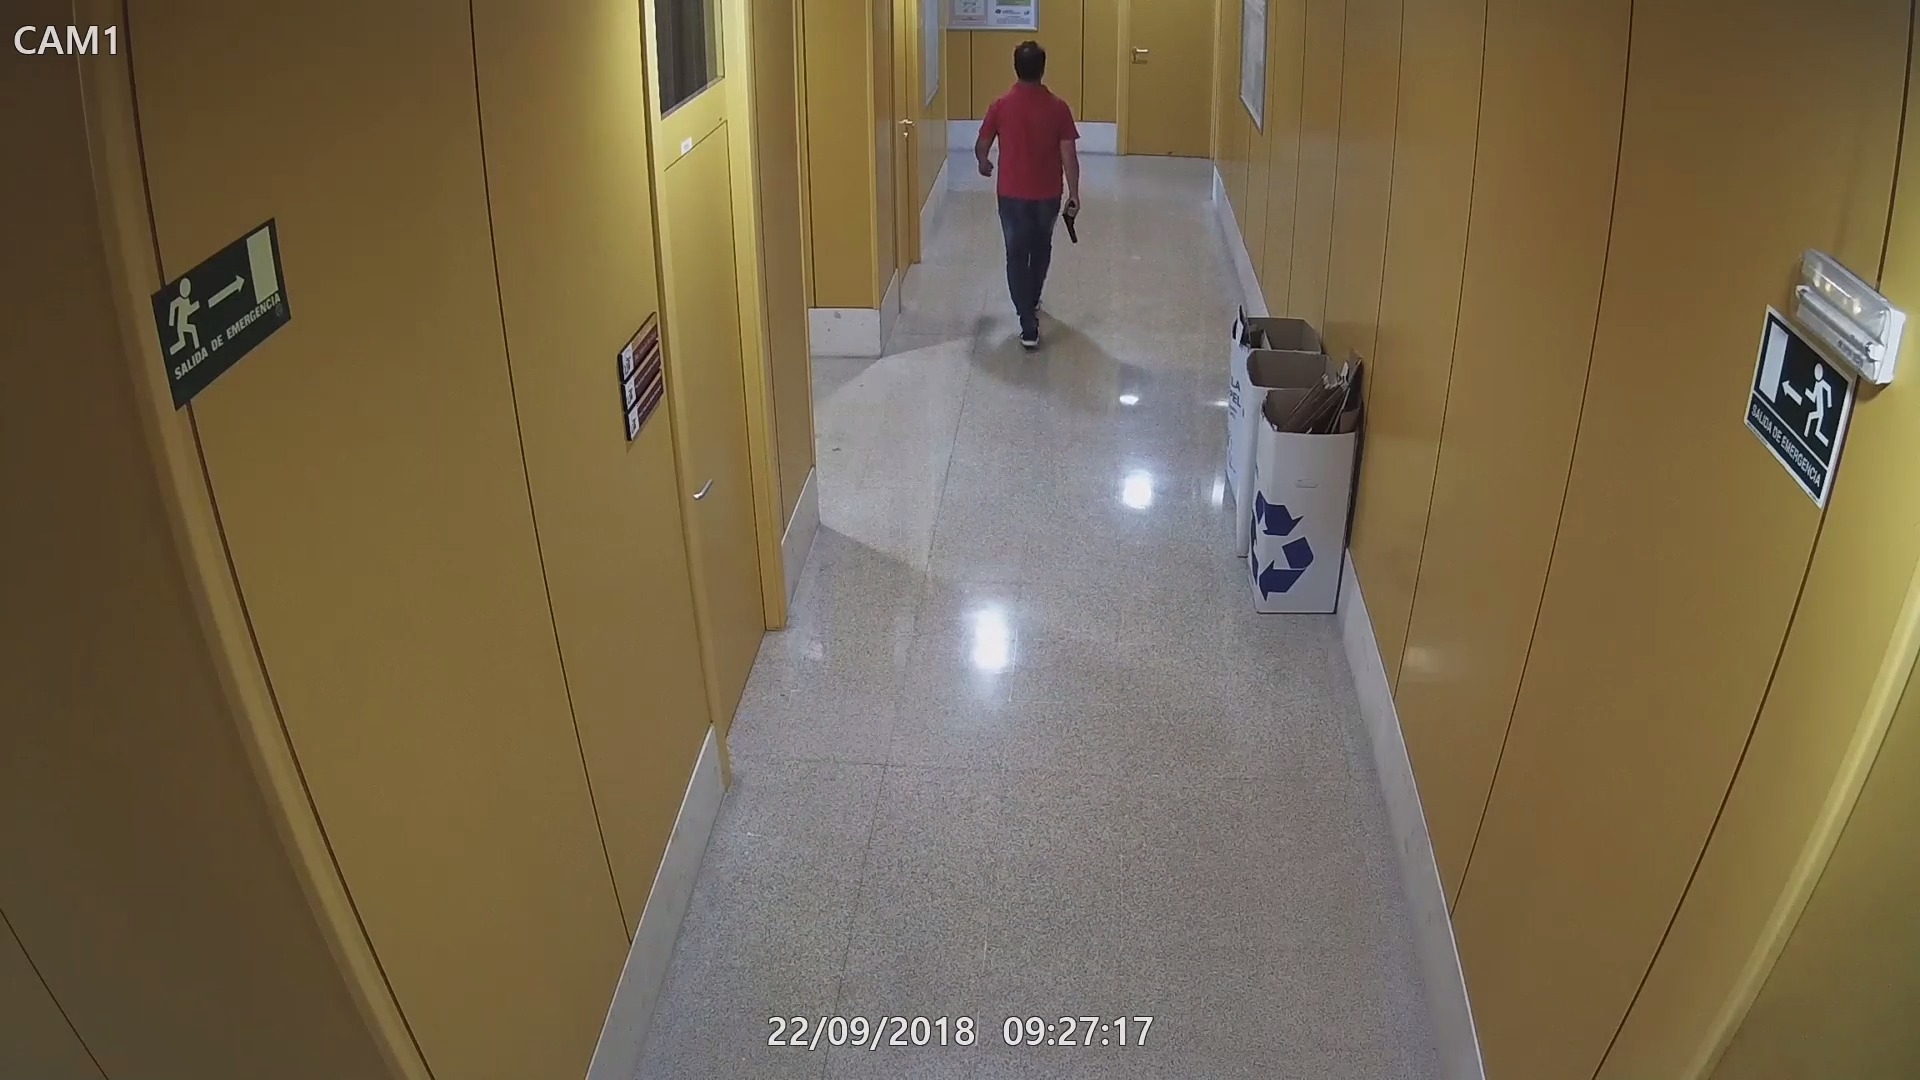Handgun: (1059, 195, 1085, 244)
